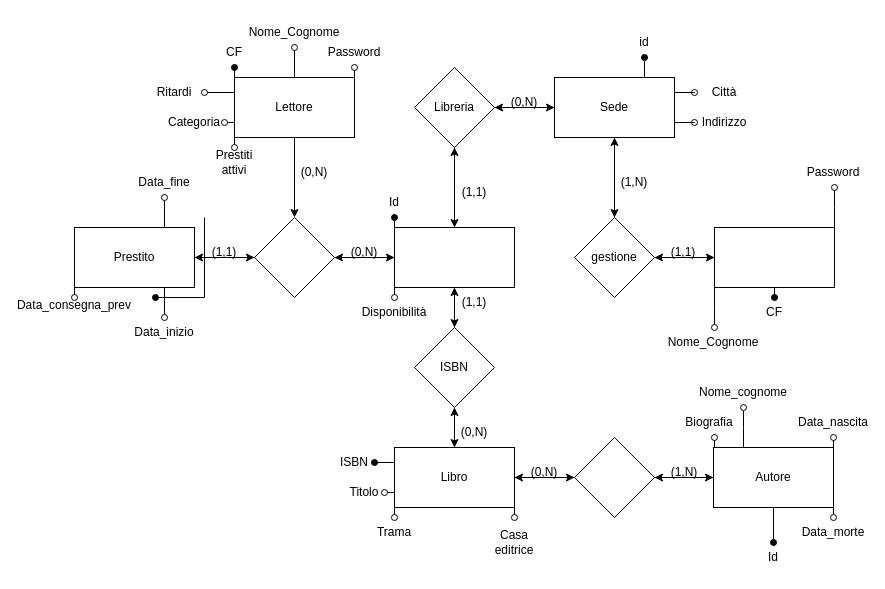
This 885x589 diagram has some shape labels left out. The centre of each missing label's shape, as x and y in pixels:
"Bibliotecario" belongs at pixel 774 257.
"Copia" belongs at pixel 454 257.
"Merito" belongs at pixel 614 477.
"Richiesta" belongs at pixel 294 257.
